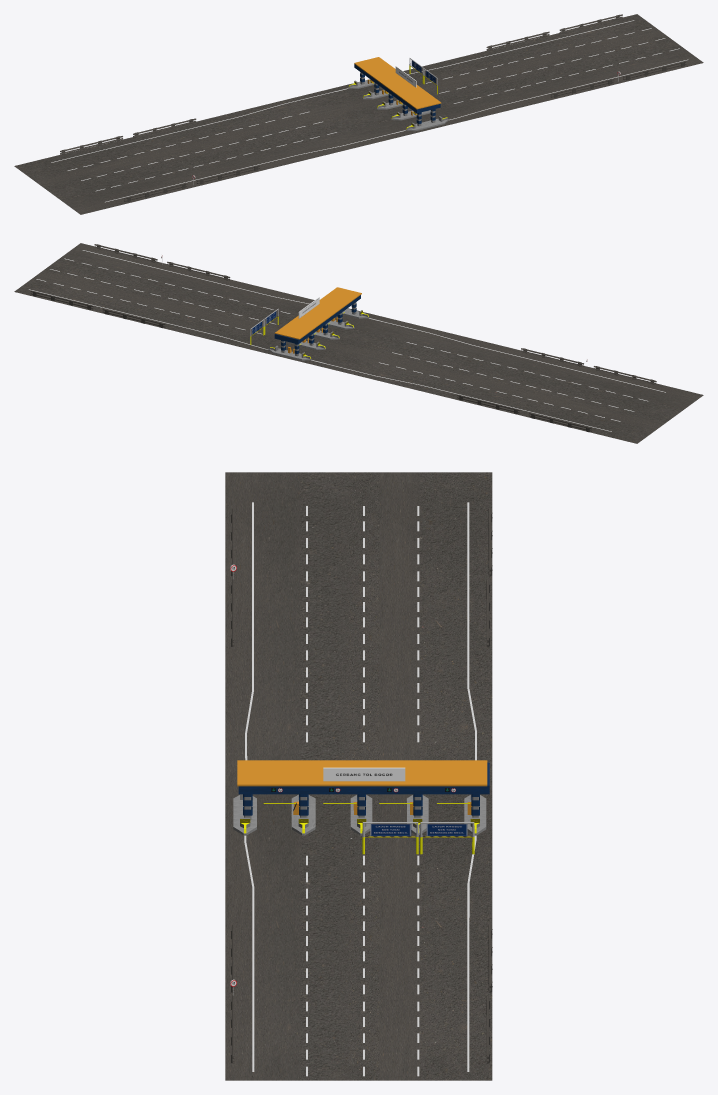
File: Gardu3-bogor.fbx
3 renders of one model, top to bottom at view 1: azimuth 30°, elevation 25°; view 2: azimuth 150°, elevation 25°; view 3: azimuth 270°, elevation 25°, orthographic. The views are drawn at different scales.
Visible parts, largest first — view 1: Plane.555, Cube.176, Cube.177, Plane.557, Plane.556; view 2: Plane.555, Cube.176, Plane.556, Plane.557; view 3: Plane.555, Cube.176, Cube.177, Cube.178, Cube.184.
Boxes of the visible parts, bbox=[...] form: Plane.555: bbox=[14, 14, 703, 214]; Cube.176: bbox=[354, 57, 441, 109]; Cube.177: bbox=[384, 86, 440, 126]; Plane.557: bbox=[105, 130, 404, 202]; Plane.556: bbox=[51, 88, 347, 162]; Plane.555: bbox=[14, 243, 703, 443]; Cube.176: bbox=[274, 287, 361, 339]; Plane.556: bbox=[312, 360, 611, 431]; Plane.557: bbox=[370, 318, 665, 392]; Plane.555: bbox=[225, 472, 492, 1080]; Cube.176: bbox=[237, 760, 487, 786]; Cube.177: bbox=[238, 786, 370, 820]; Cube.178: bbox=[323, 767, 405, 781]; Cube.184: bbox=[361, 762, 489, 794].
Size of what is drawn, in the model's own units: 14924 by 643 by 2771.
15 materials, 10 textured.
